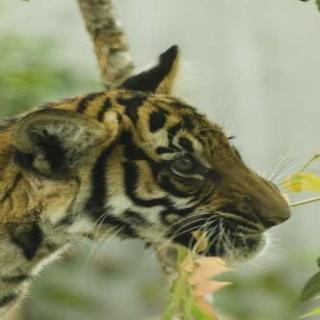Tiger: (0, 52, 292, 319)
